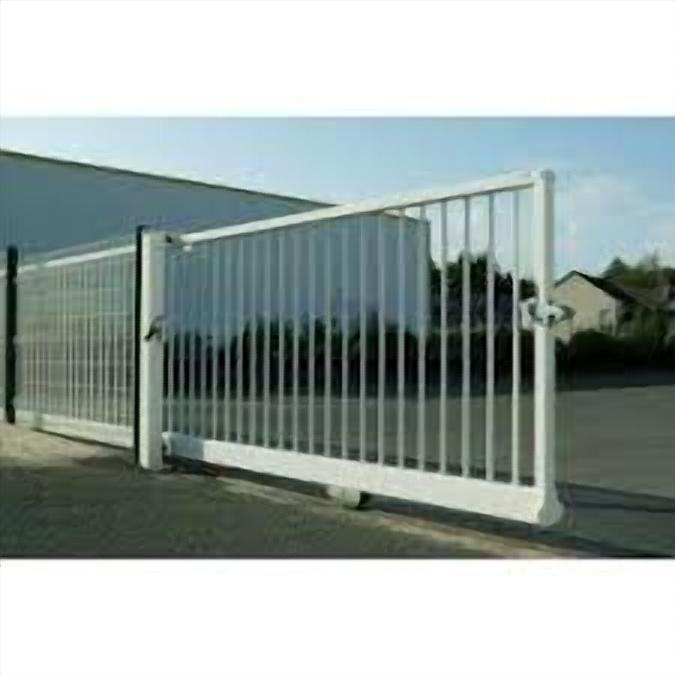Building: (524, 270, 648, 358)
Gate: (0, 171, 563, 527)
